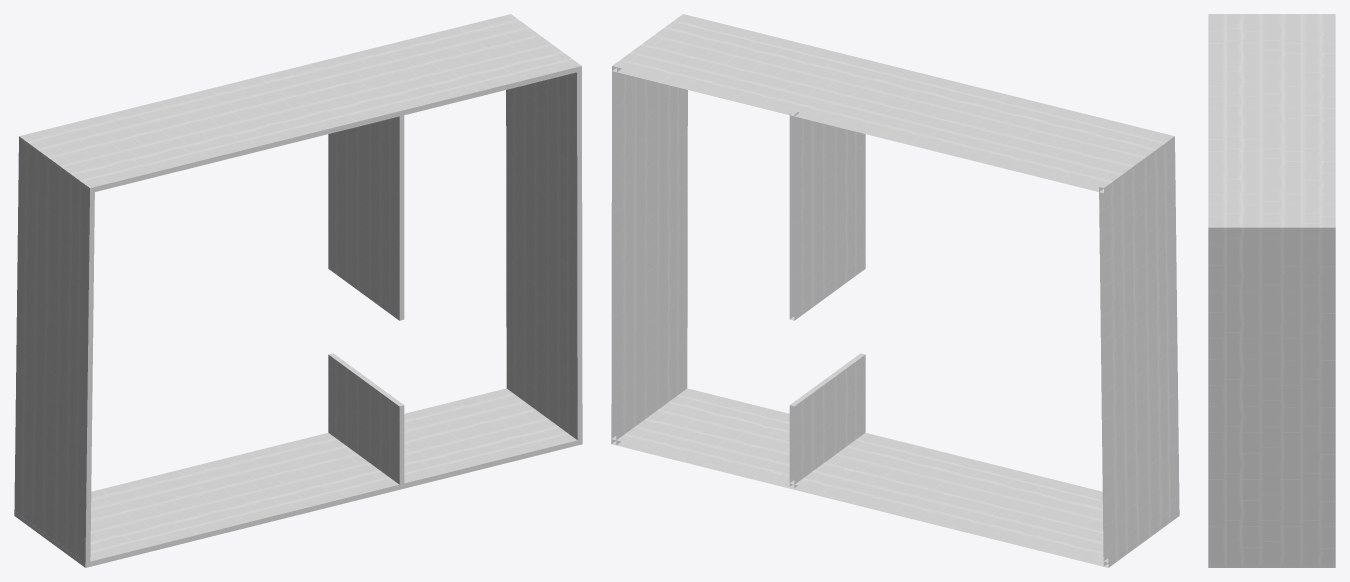
The model's file is wall_1.obj.
The picture shows the model from 3 angles, left to right: view 1: azimuth 30°, elevation 25°; view 2: azimuth 150°, elevation 25°; view 3: azimuth 270°, elevation 25°; orthographic projection. The views are drawn at different scales.
Visible parts, largest first — view 1: walls; view 2: walls; view 3: walls.
Part boxes in pixels (<box>): walls: <box>14,14,582,567</box>; walls: <box>611,14,1179,567</box>; walls: <box>1208,14,1335,567</box>.
Size of the model in its own units: 10.1 by 7.4 by 2.5.
